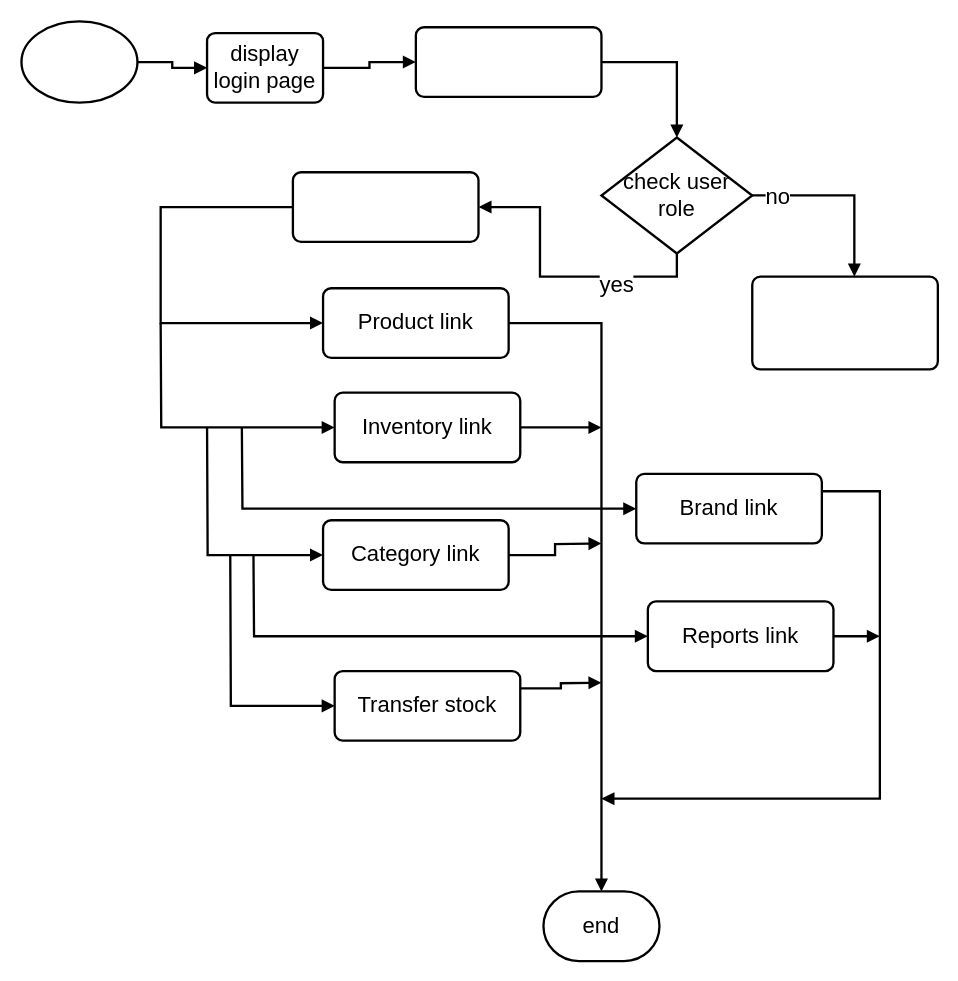
This 958x981 diagram has some shape labels left out. The box of each missing label's shape, as (x1, y1, x2, y2) in pixels:
Enter username and password: (414, 26, 602, 97)
Inventory manager page not displayed: (751, 275, 938, 370)
Login succesfuly: (291, 171, 479, 242)
start: (20, 20, 138, 103)
